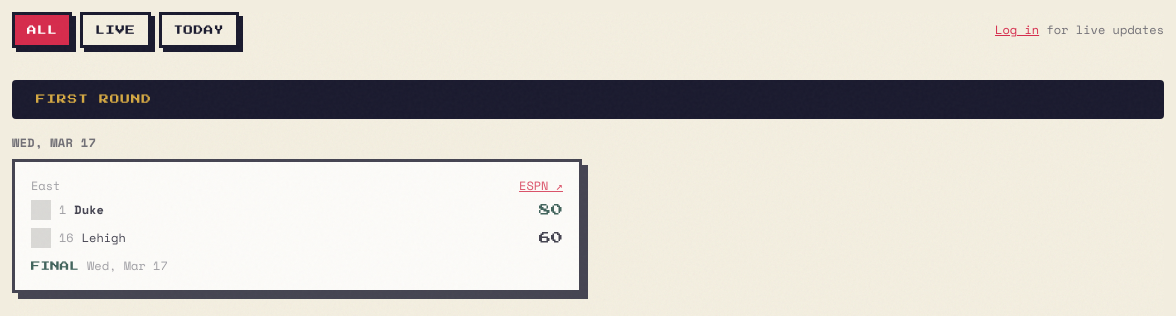
Scenario: ScheduleClient › shows an empty message for a filter with no matches
The image size is (1176, 316).
Click the button "Live".
click(115, 30)  # box [80,12,150,48]
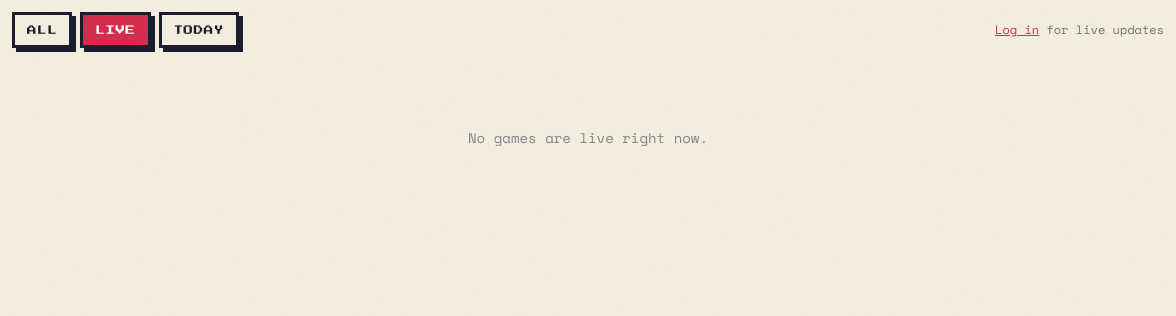
Now the text "No games are live right now." is shown, box [468,127,708,148]
